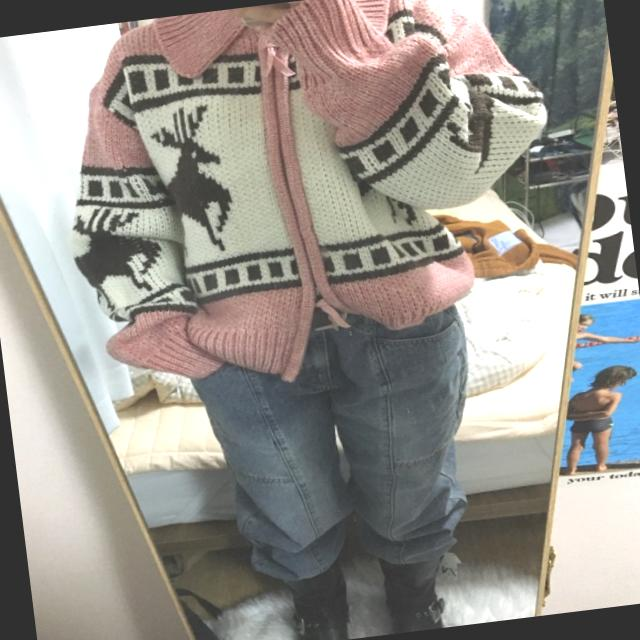cardigan: (39, 0, 576, 407)
denimpants: (181, 282, 498, 610)
